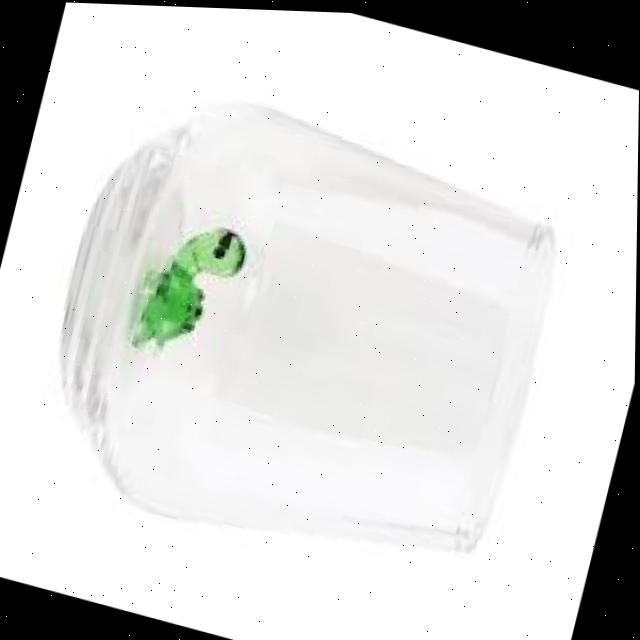Dry: (19, 52, 590, 612)
